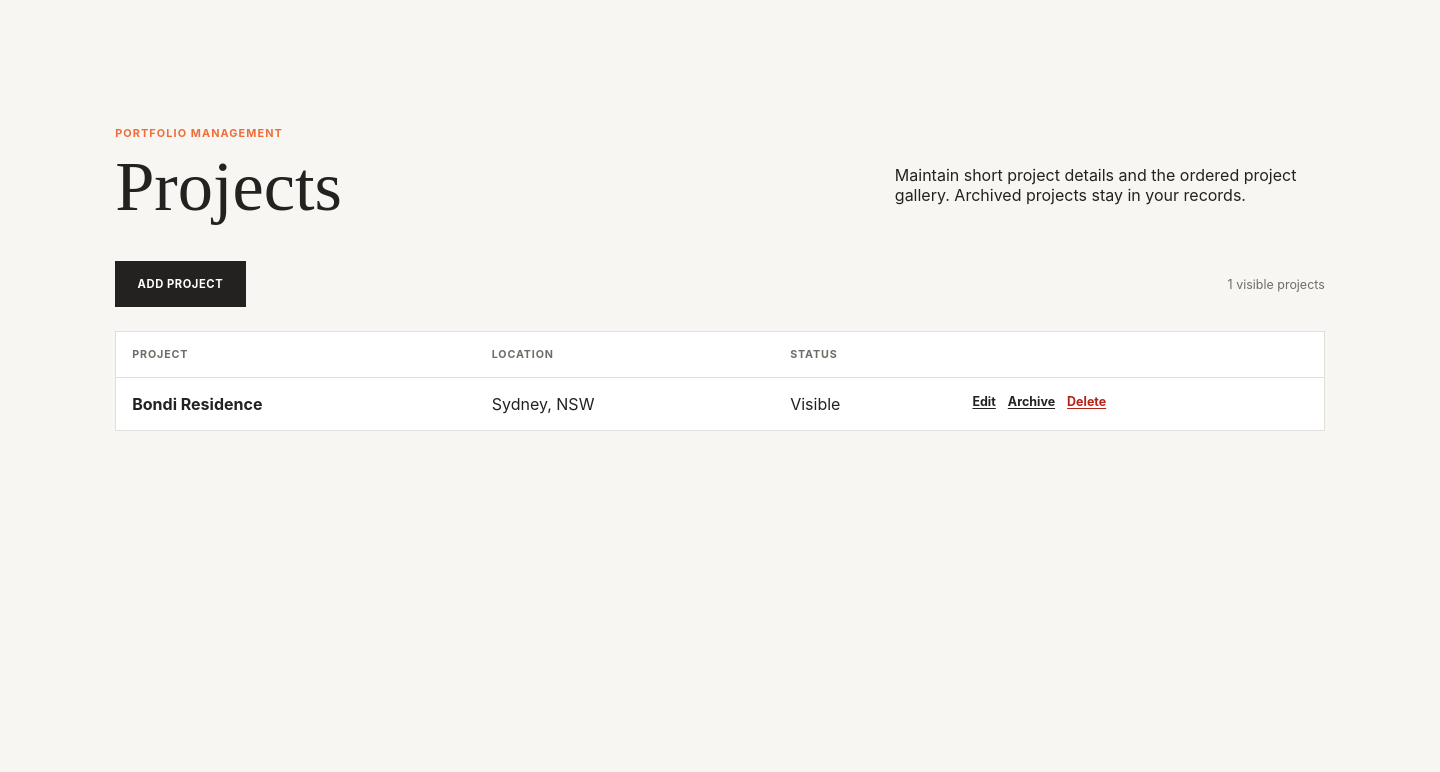
updates an existing project slug when its name changes
Click the button "Edit" at (984, 402), box left=972, top=394, right=996, bottom=409
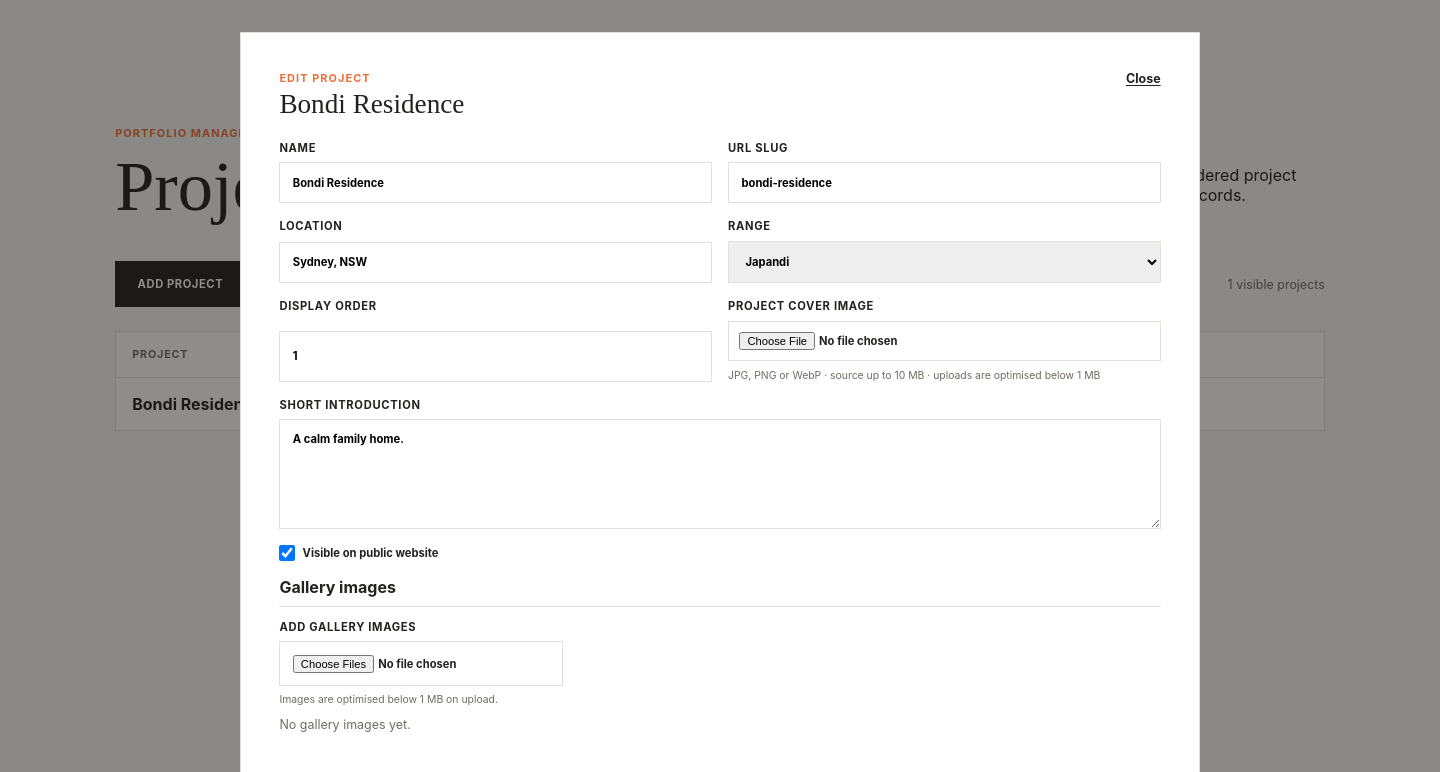
Replace the text in the field labelled "Name" with "Coastal House" at (496, 183), box left=279, top=162, right=712, bottom=203
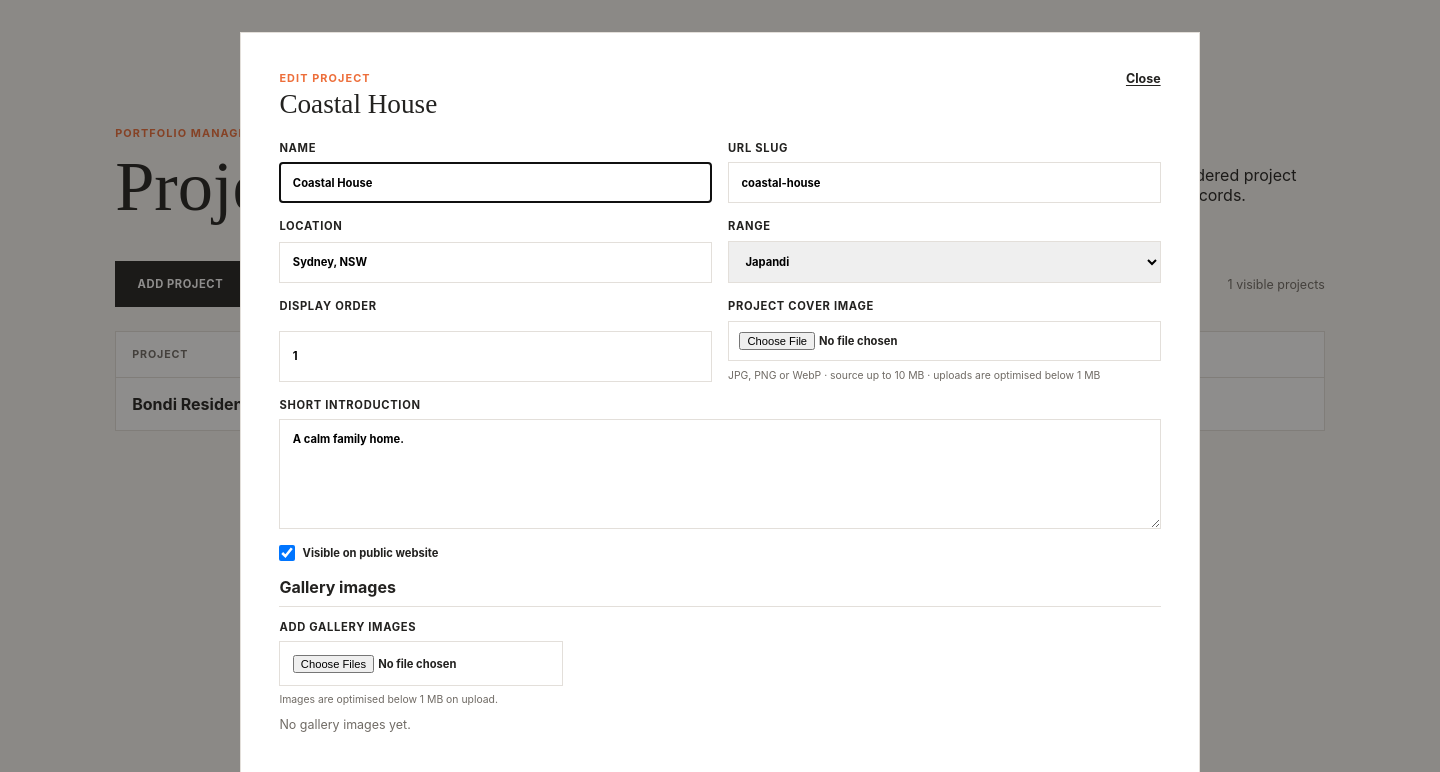
Check: the field labelled "URL slug" holds "coastal-house", box left=728, top=162, right=1161, bottom=203
